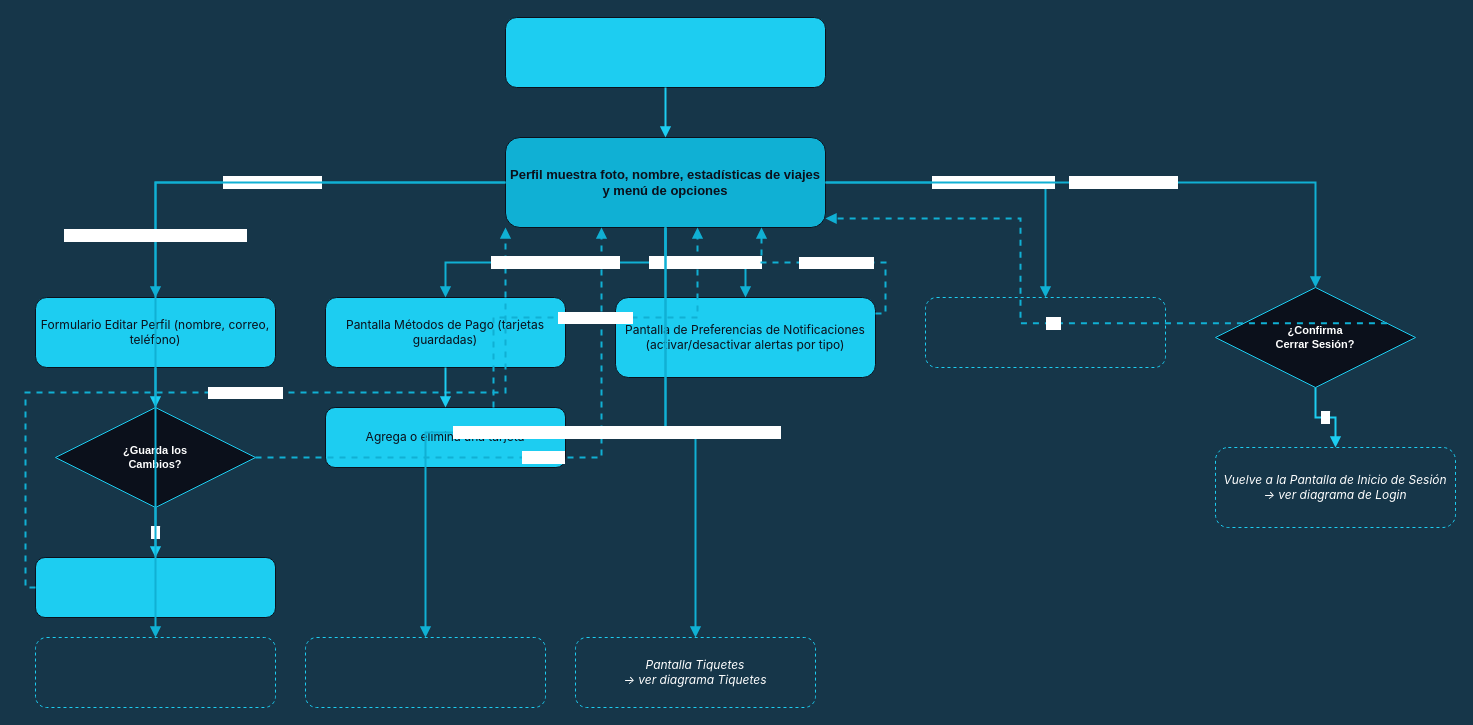
Some shapes in this 1473 by 725 pixel diagram are drawn without their labels. The centre of each missing label's shape, as x and y in pixels:
"Datos actualizados" goes at point 155,587.
"Pantalla de Ayuda y Soporte" goes at point 1045,332.
"Pantalla Home → ver diagrama Home" goes at point 155,672.
"Pantalla Rutas → ver diagrama Rutas" goes at point 425,672.
"Usuario entra a Perfil desde el nav. inferior o tocando su avatar en Home" goes at point 665,52.
